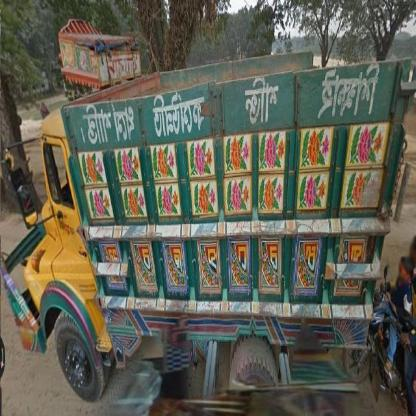truck: (5, 55, 390, 394)
